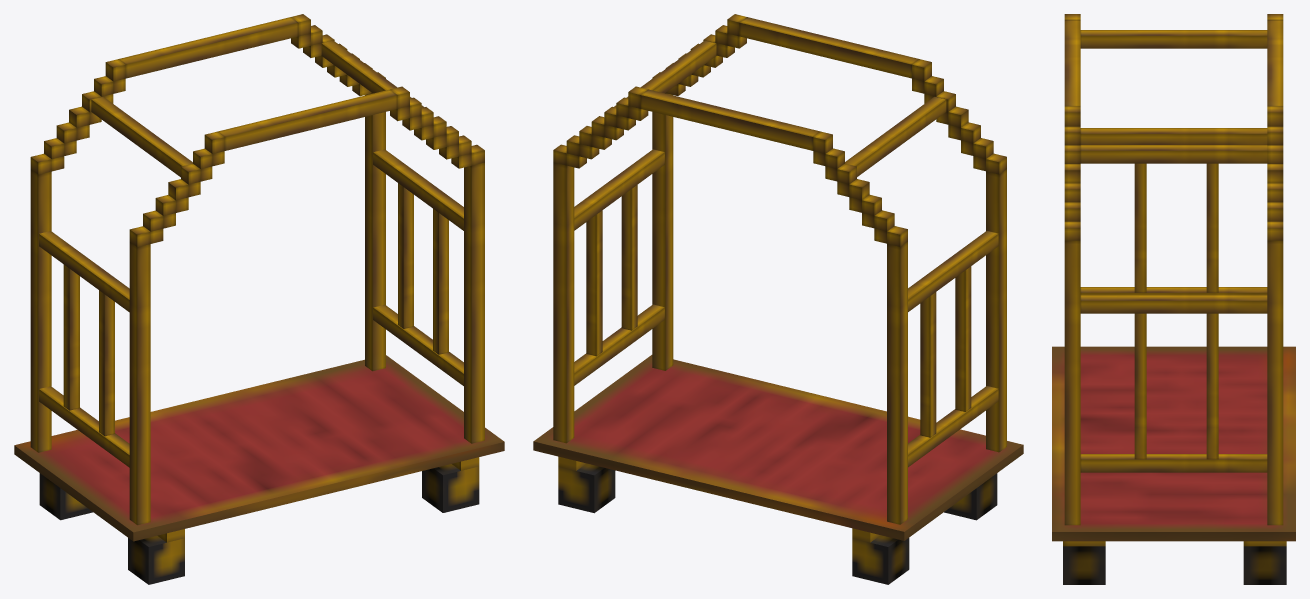
File: Cart.fbx
3 renders of one model, left to right at view 1: azimuth 30°, elevation 25°; view 2: azimuth 150°, elevation 25°; view 3: azimuth 270°, elevation 25°, orthographic. The views are drawn at different scales.
Parts seen in each view (by area): view 1: Cube.005; view 2: Cube.005; view 3: Cube.005.
Part boxes in pixels (<box>): Cube.005: <box>14,14,504,584</box>; Cube.005: <box>533,14,1023,584</box>; Cube.005: <box>1052,14,1295,584</box>.
Bounding box in the file's own units: 579 × 638 × 322.
1 material, 1 textured.
